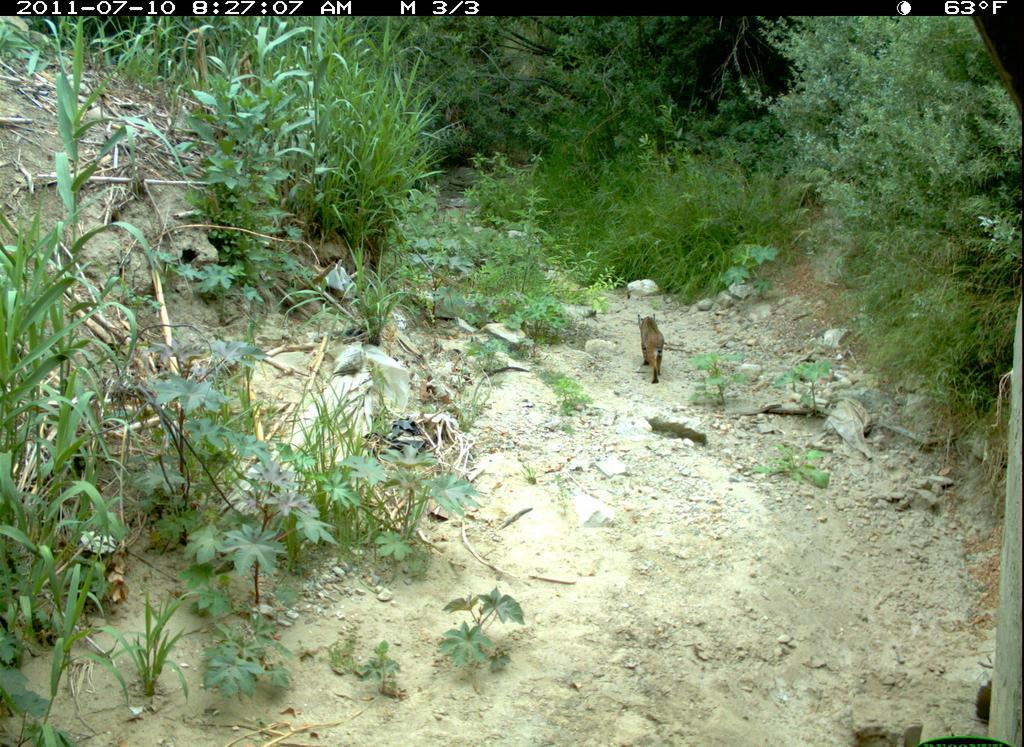bobcat: (633, 306, 671, 387)
